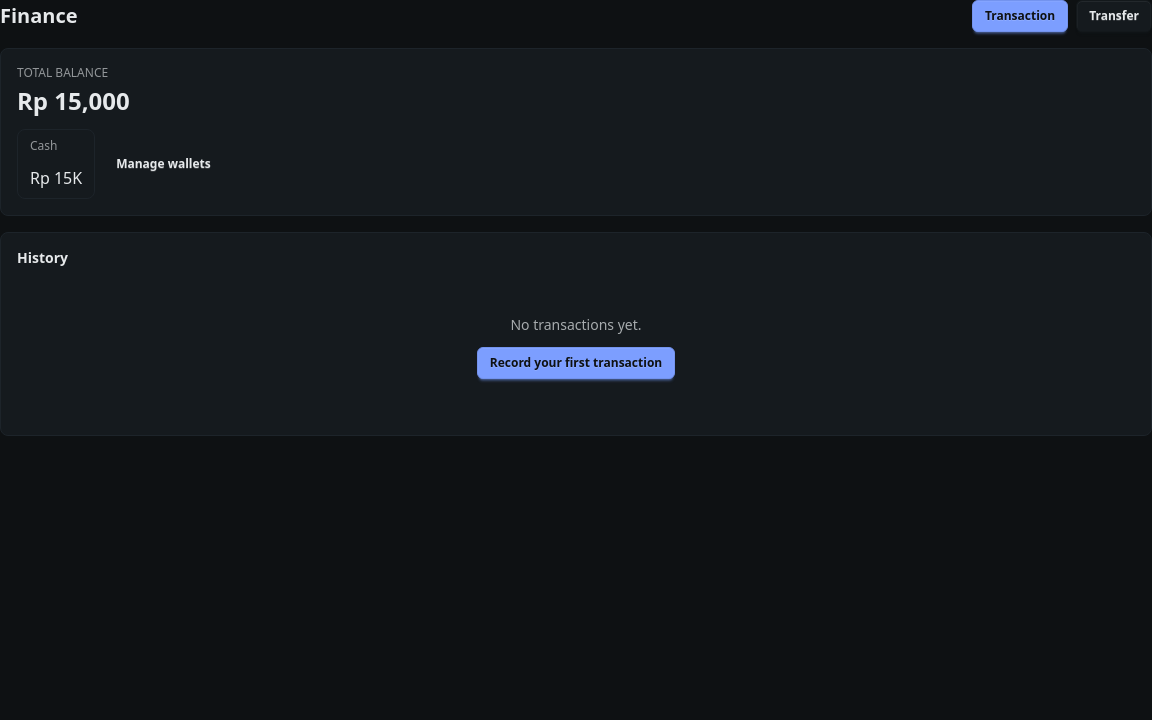
FinancePage › offers the create CTA when the history is empty
Expected: the text "No transactions yet." is shown, [510,315,642,335]
What coordinates should you click on to do the following:
click the button "Record your first transaction"
I would click on:
 (576, 363)
Its box is [477,347,675,379].
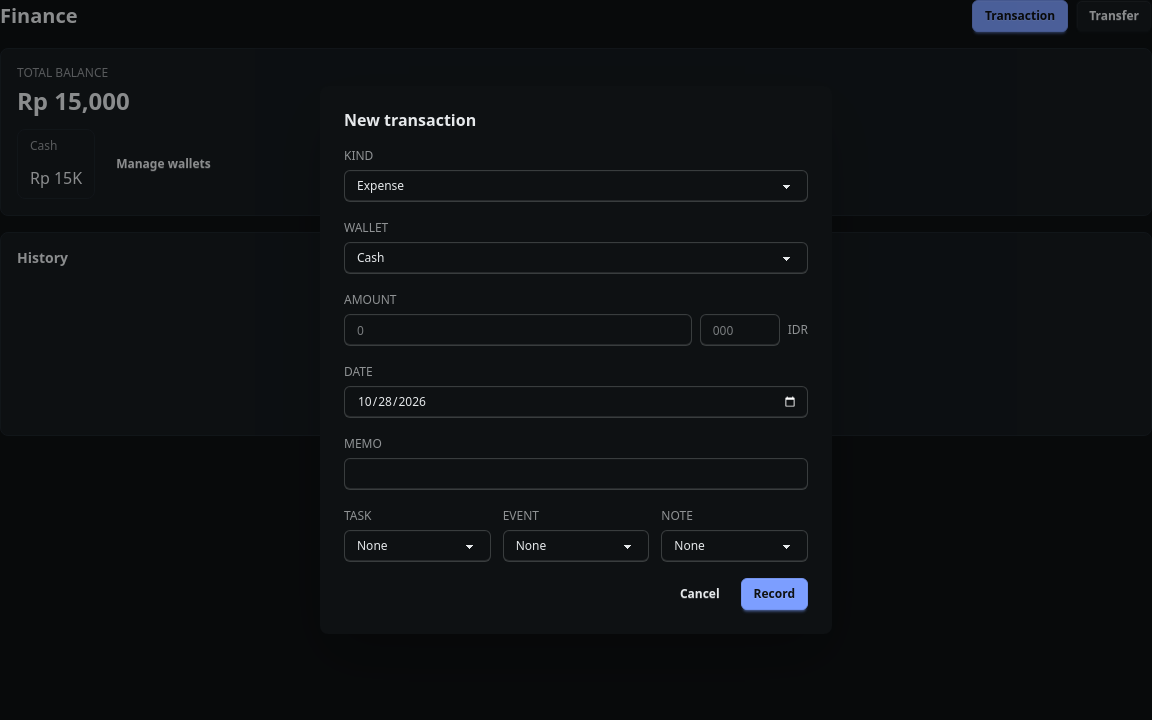
Expected: the field labelled "Amount" is shown, [344,314,692,346]
